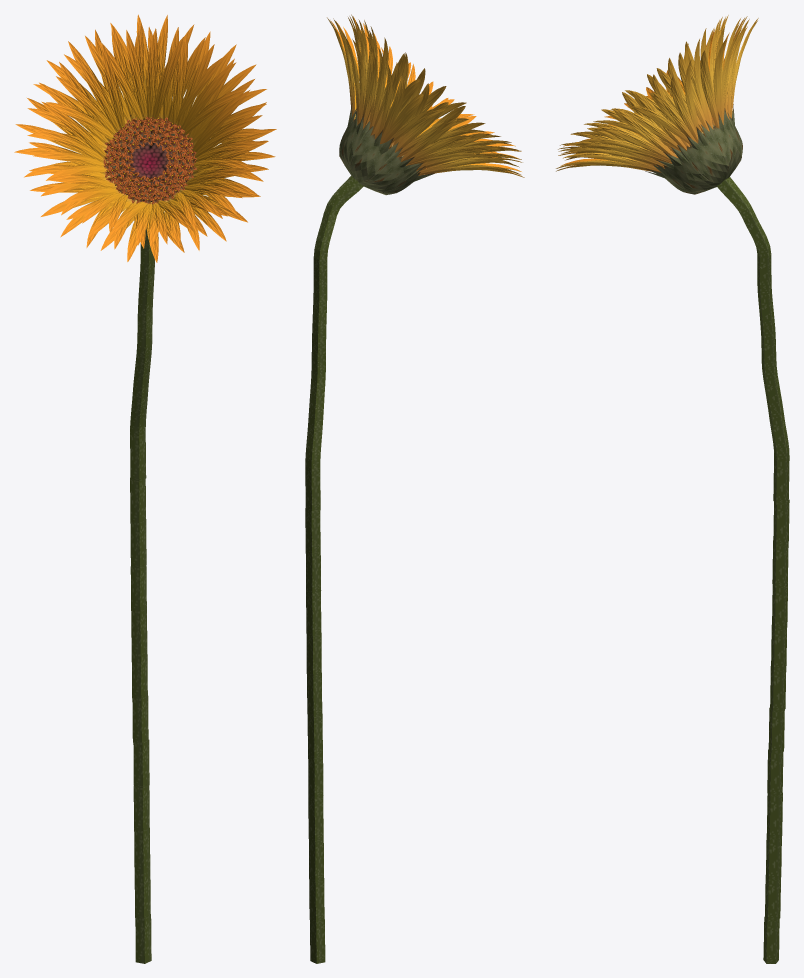
The model's file is flower.obj.
3 views of the same model, side by side, from view 1: azimuth 30°, elevation 25°; view 2: azimuth 150°, elevation 25°; view 3: azimuth 270°, elevation 25° (orthographic). The views are drawn at different scales.
Visible parts, largest first — view 1: object; view 2: object; view 3: object.
Boxes of the visible parts, box(x1,y1,x2,y2) form: object: box(14, 14, 276, 963); object: box(305, 14, 524, 963); object: box(556, 15, 789, 963).
Bounding box in the file's own units: 0.5152 × 2.26 × 0.5211.
